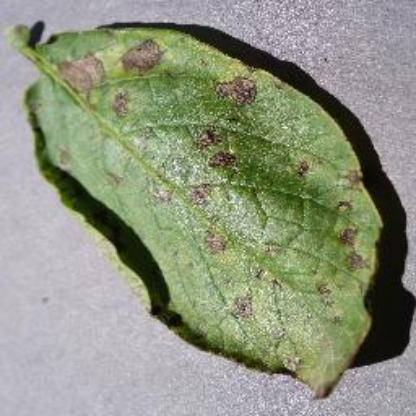Early-Blight: (5, 2, 409, 404)
